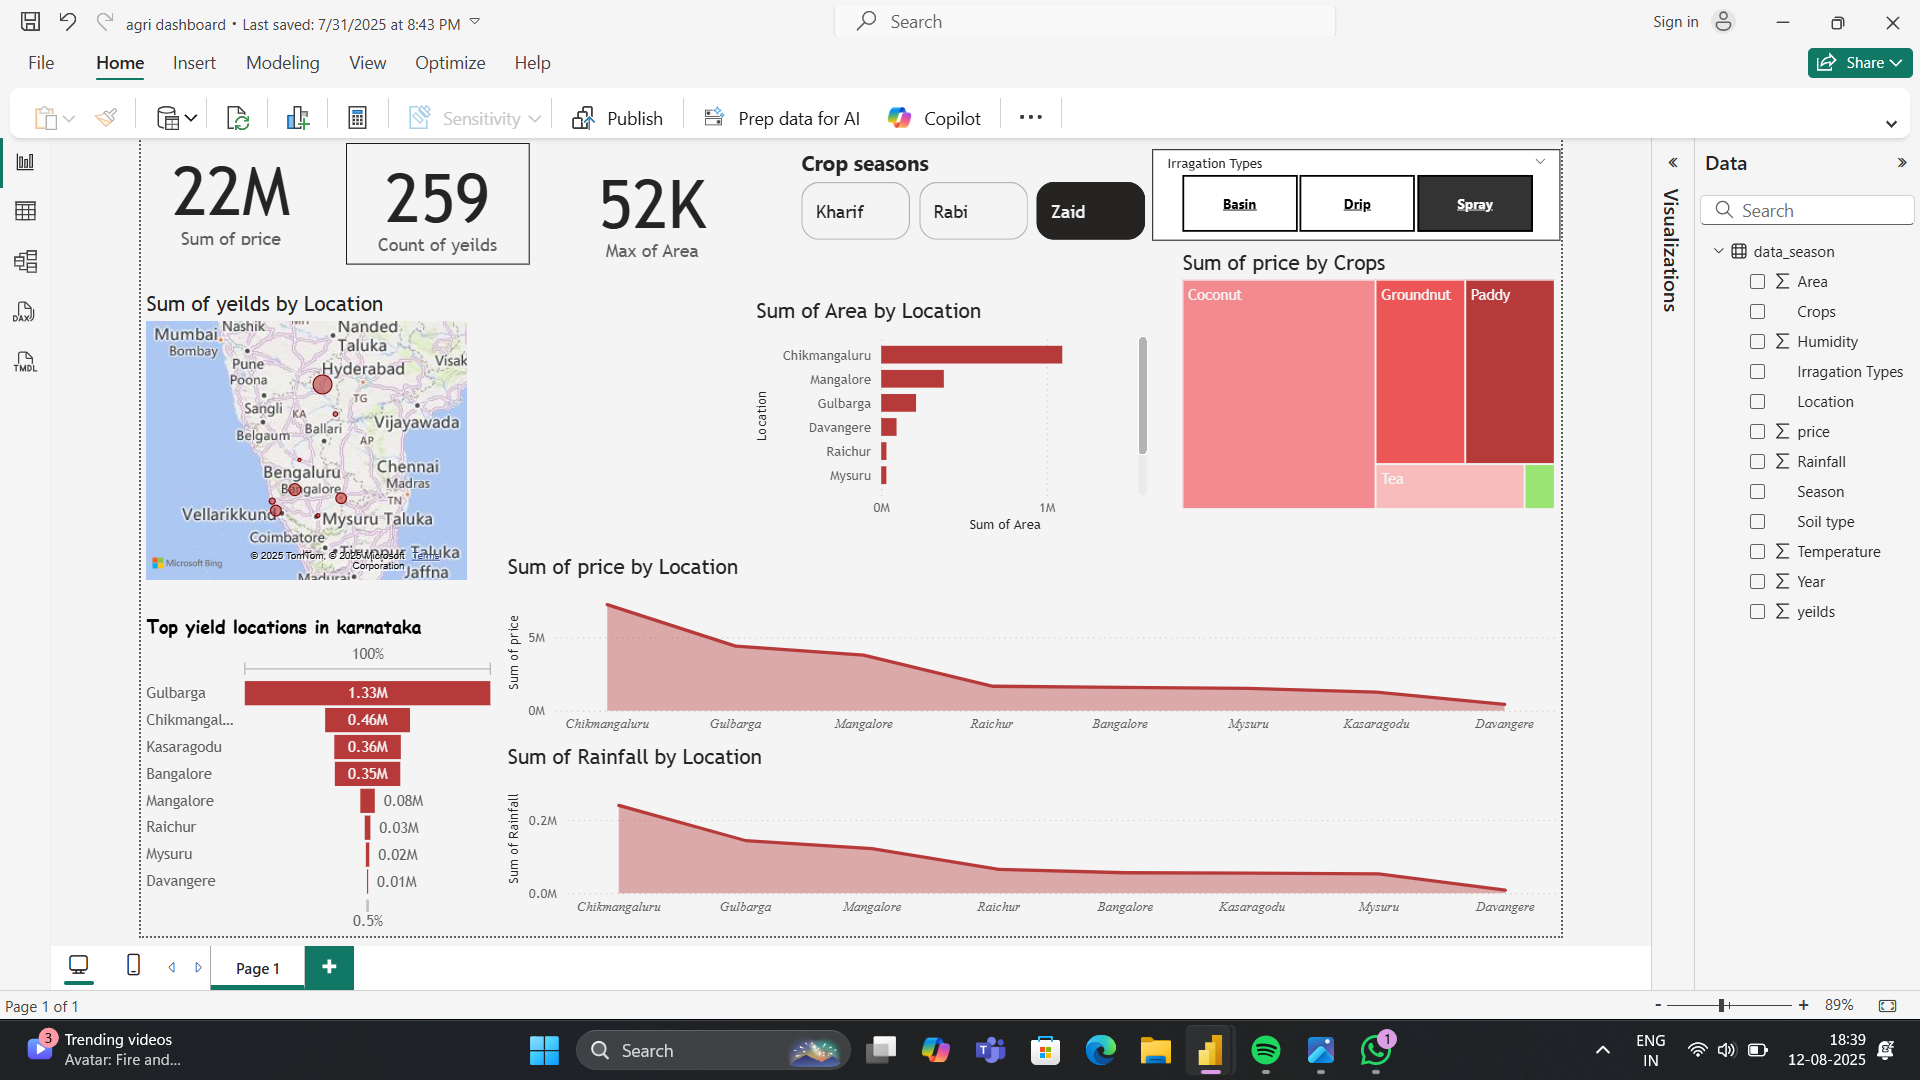

The page's visual inventory and layout, read from the dashboard file:
{"tool":"powerbi","page":{"name":"Page 1","canvas":[1280,720],"ordinal":0},"visuals":[{"type":"treemap","fields":{"Group":["data_season.Crops"],"Values":["data_season.price"]},"box":[934.9,101.6,345.5,238.3],"z":0},{"type":"card","fields":{"Values":["data_season.price","select"]},"box":[0,0,119.7,116.3],"z":1000},{"type":"card","fields":{"Values":["data_season.yeilds"]},"box":[119.7,4.5,140,111.8],"z":2000},{"type":"card","fields":{"Values":["data_season.Area"]},"box":[259.7,4.5,115.2,116.3],"z":3000},{"type":"advancedSlicerVisual","title":"Crop seasons","fields":{"Values":["data_season.Season"]},"box":[590.5,10.2,321.8,86.9],"z":4000},{"type":"map","fields":{"Category":["data_season.Location"],"Size":["data_season.price"],"X":["data_season.Temperature"]},"box":[0,140,291.3,327.5],"z":5000},{"type":"slicer","fields":{"Values":["data_season.Irrigation"]},"box":[912.4,10.2,368.1,82.4],"z":6000},{"type":"funnel","title":"Top yield locations in karnataka","fields":{"Category":["data_season.Location"],"Y":["data_season.yeilds"]},"box":[0,459.6,325.2,260.8],"z":7000},{"type":"stackedAreaChart","fields":{"Category":["data_season.Location"],"Y":["data_season.price"]},"box":[325.2,374.9,955.3,168.2],"z":8000},{"type":"stackedAreaChart","fields":{"Category":["data_season.Location"],"Y":["data_season.Rainfall"]},"box":[325.2,546.5,955.3,161.5],"z":9000},{"type":"barChart","fields":{"Category":["data_season.Location"],"Y":["data_season.Area"]},"box":[447.1,116.3,465.2,215.7],"z":11000}]}

Visuals, with their boxes on the page's 1280x720 design canvas (x1, y1, x2, y2). These are canvas units, not pixel positions in the 1920x1080 screenshot, which may show the page scaled, cropped or inside an application window:
treemap - data_season.Crops x data_season.price: x1=935 y1=102 x2=1280 y2=340
card - data_season.price x select: x1=0 y1=0 x2=120 y2=116
card - data_season.yeilds: x1=120 y1=4 x2=260 y2=116
card - data_season.Area: x1=260 y1=4 x2=375 y2=121
"Crop seasons" advancedSlicerVisual: x1=590 y1=10 x2=912 y2=97
map - data_season.Location x data_season.price: x1=0 y1=140 x2=291 y2=468
slicer - data_season.Irrigation: x1=912 y1=10 x2=1280 y2=93
"Top yield locations in karnataka" funnel: x1=0 y1=460 x2=325 y2=720
stackedAreaChart - data_season.Location x data_season.price: x1=325 y1=375 x2=1280 y2=543
stackedAreaChart - data_season.Location x data_season.Rainfall: x1=325 y1=546 x2=1280 y2=708
barChart - data_season.Location x data_season.Area: x1=447 y1=116 x2=912 y2=332
